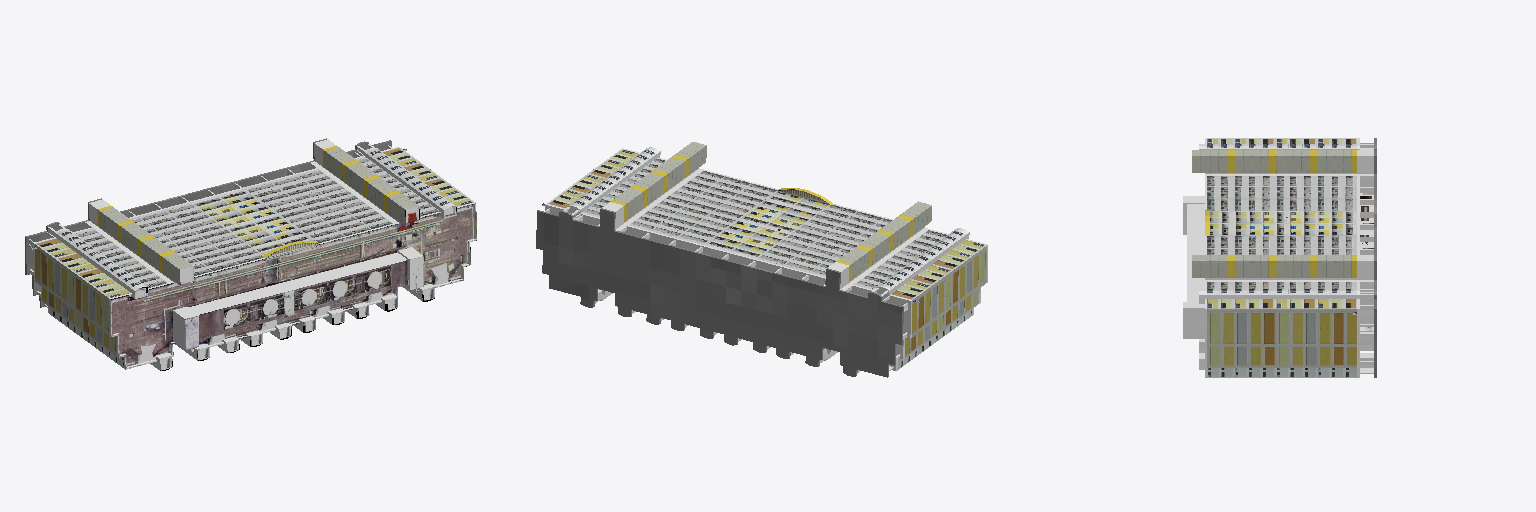
3 views of the same model, side by side, from view 1: azimuth 30°, elevation 25°; view 2: azimuth 150°, elevation 25°; view 3: azimuth 270°, elevation 25° (orthographic).
Visible parts, largest first — view 1: polygon.791; view 2: polygon.791; view 3: polygon.791.
Part boxes in pixels (x1,y1,x2,y2): polygon.791: (25, 138, 476, 370); polygon.791: (536, 142, 987, 377); polygon.791: (1183, 138, 1376, 377).
Size of the model in its own units: 85.06 by 23.02 by 37.93.
Materials: 1 (1 with a texture image).